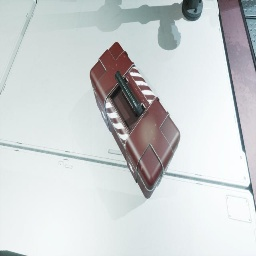FirstAidBox ,: (90, 42, 181, 199)
